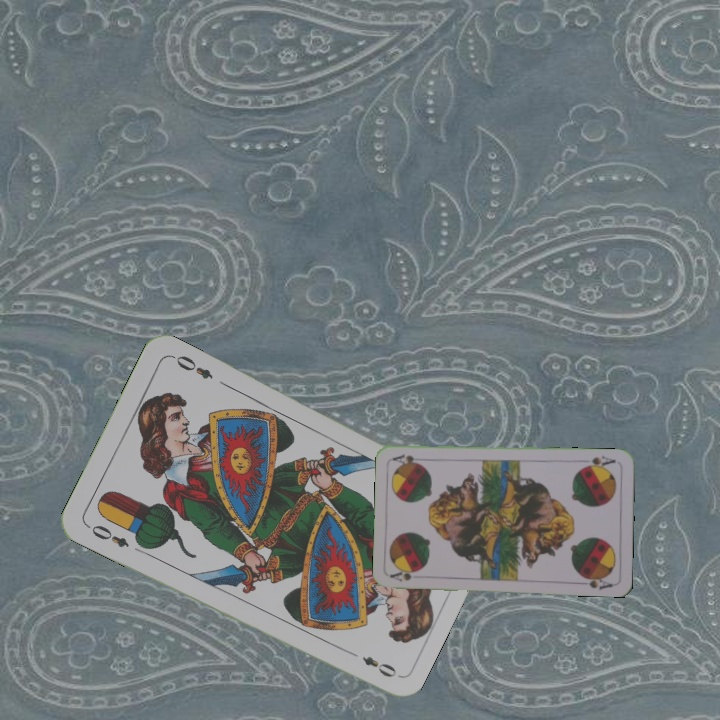EO: (82, 521, 132, 550)
SA: (578, 452, 618, 471), (387, 567, 421, 585)
